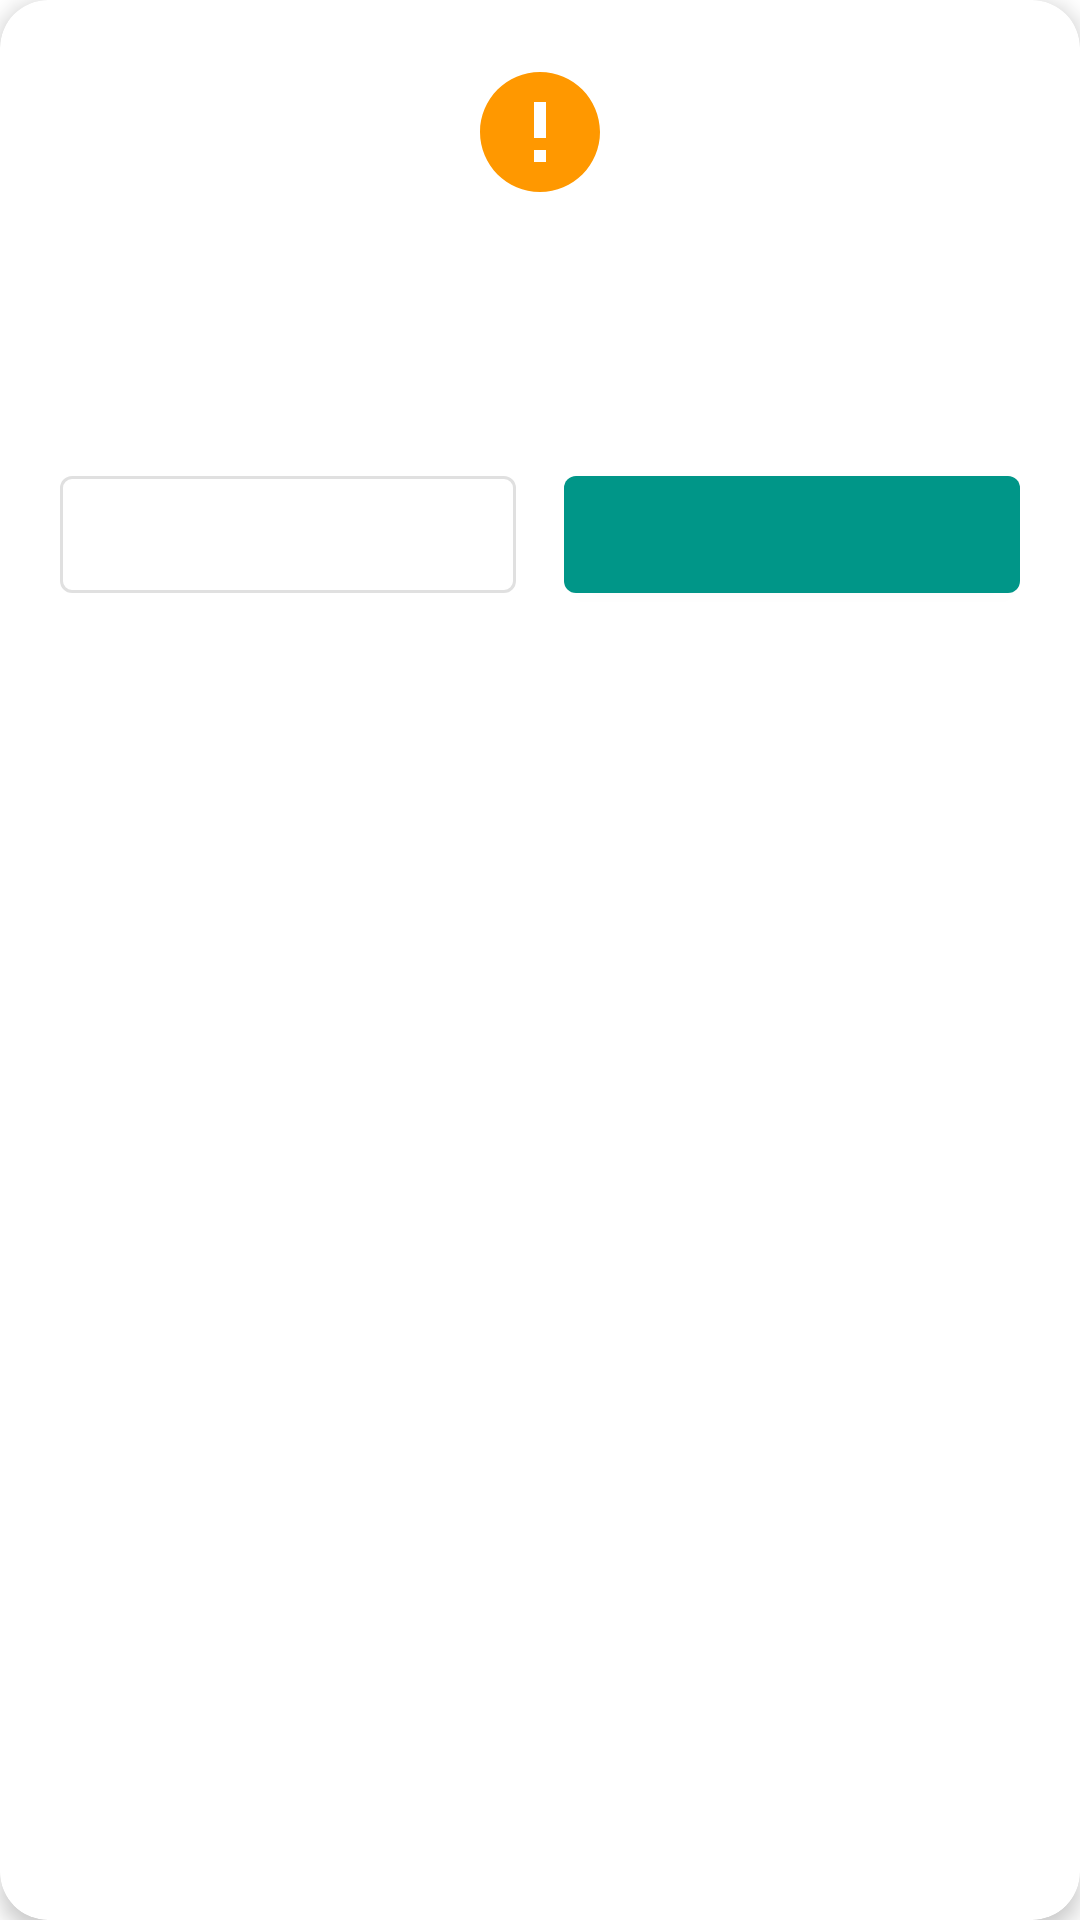

Icon bounding boxes for this 1080 x 1920 phone screenshot, format {"x1": x1, "y1": y1, "x2": x2, "y2": y2}:
warning: {"x1": 480, "y1": 72, "x2": 600, "y2": 192}
